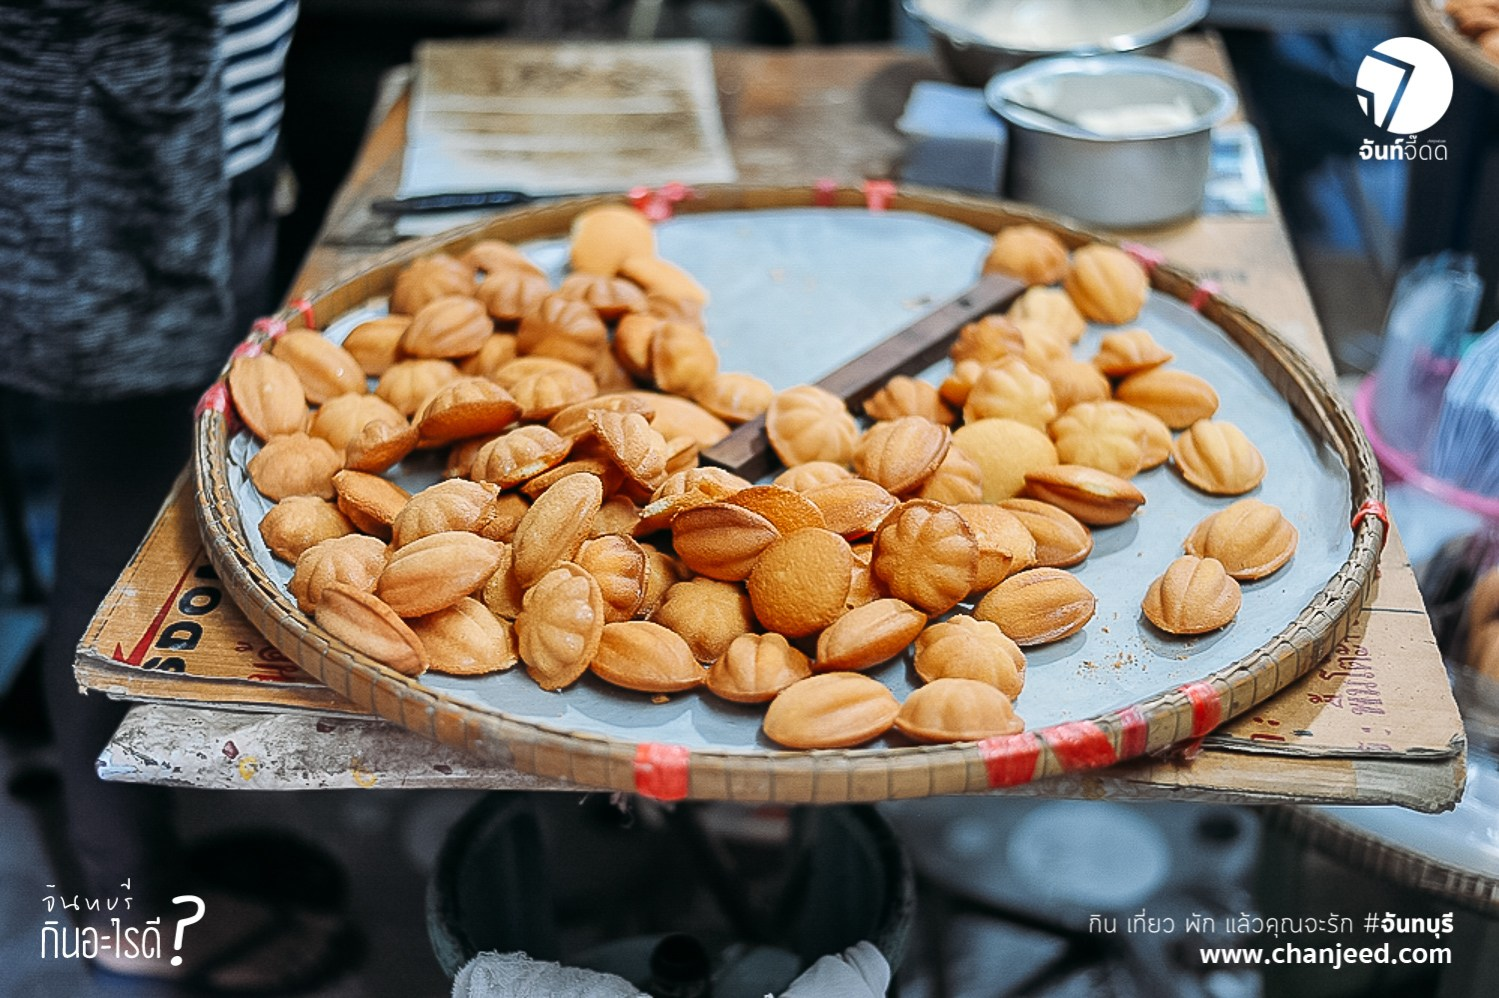kanomkai: (503, 551, 611, 699), (754, 659, 910, 756), (1023, 451, 1165, 547), (746, 524, 856, 644), (1133, 547, 1248, 653)
